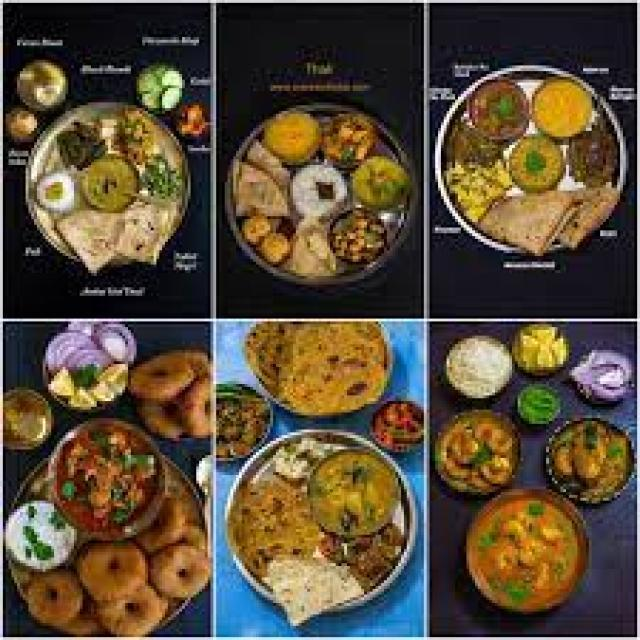dal: (529, 78, 591, 135), (259, 109, 323, 163)
papad: (500, 190, 581, 252), (288, 216, 335, 270)
raita: (0, 502, 78, 576), (3, 389, 56, 458)
rice: (289, 166, 350, 227)
roti: (226, 461, 356, 590), (246, 323, 391, 418), (232, 482, 314, 573), (61, 204, 171, 269), (131, 347, 209, 436), (78, 546, 160, 620), (232, 163, 289, 218), (290, 213, 337, 269), (56, 120, 104, 171)
sweet: (253, 220, 292, 264), (239, 216, 278, 247)
veg-fry: (459, 497, 590, 612), (225, 162, 292, 220), (73, 157, 142, 212)
